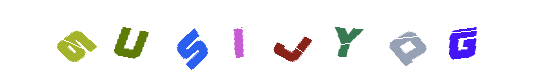1: (230, 0, 310, 80)
6: (41, 0, 121, 80)
G: (422, 0, 502, 80)
J: (252, 0, 332, 80)
Q: (306, 0, 386, 80)
S: (154, 0, 234, 80)
U: (90, 0, 170, 80)
Y: (303, 0, 383, 80)
